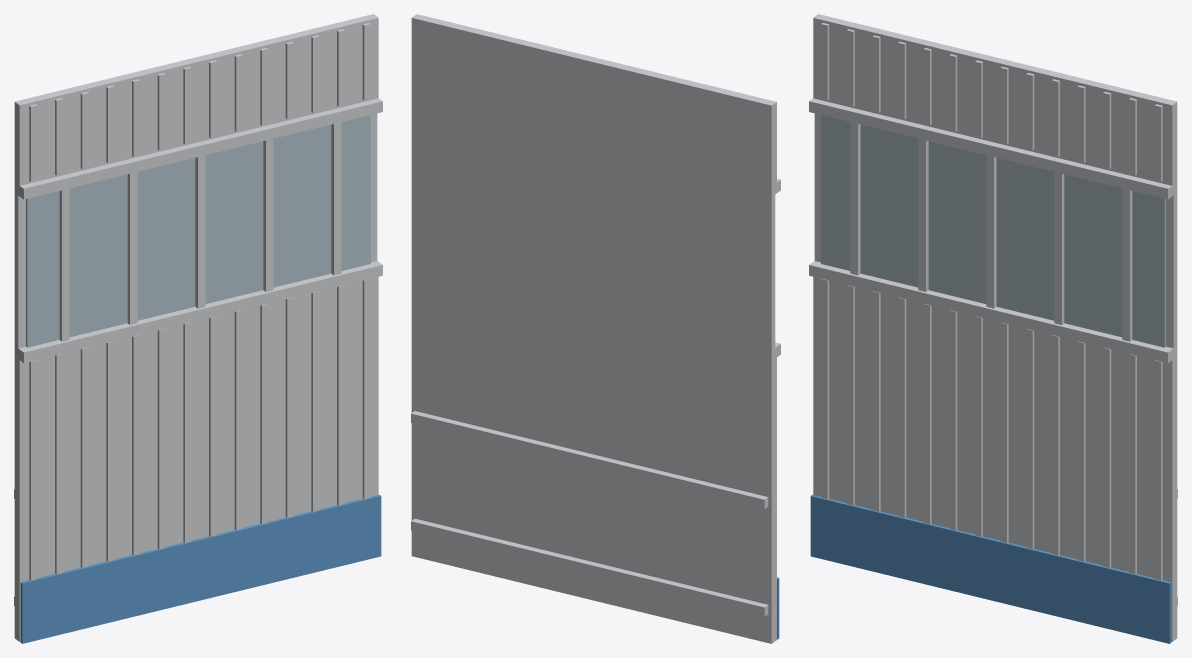
File: hall-window-band-bay.glb
The picture shows the model from 3 angles, left to right: view 1: azimuth 30°, elevation 25°; view 2: azimuth 150°, elevation 25°; view 3: azimuth 330°, elevation 25°; orthographic projection.
Visible parts, largest first — view 1: hall-window-band-bay; view 2: hall-window-band-bay; view 3: hall-window-band-bay.
Boxes of the visible parts, x1,y1,x2,y2 form: hall-window-band-bay: (14,14,382,643); hall-window-band-bay: (411,14,780,643); hall-window-band-bay: (809,14,1177,643).
Size of the model in its own units: 5.6 by 8 by 0.3496.
